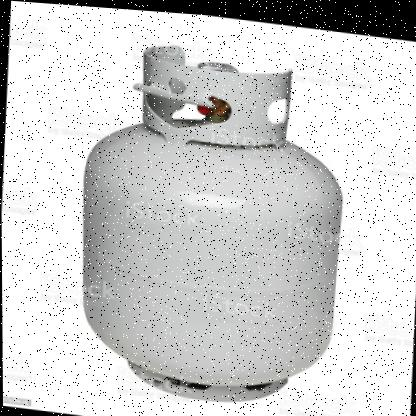gas-tank: (61, 7, 371, 415)
